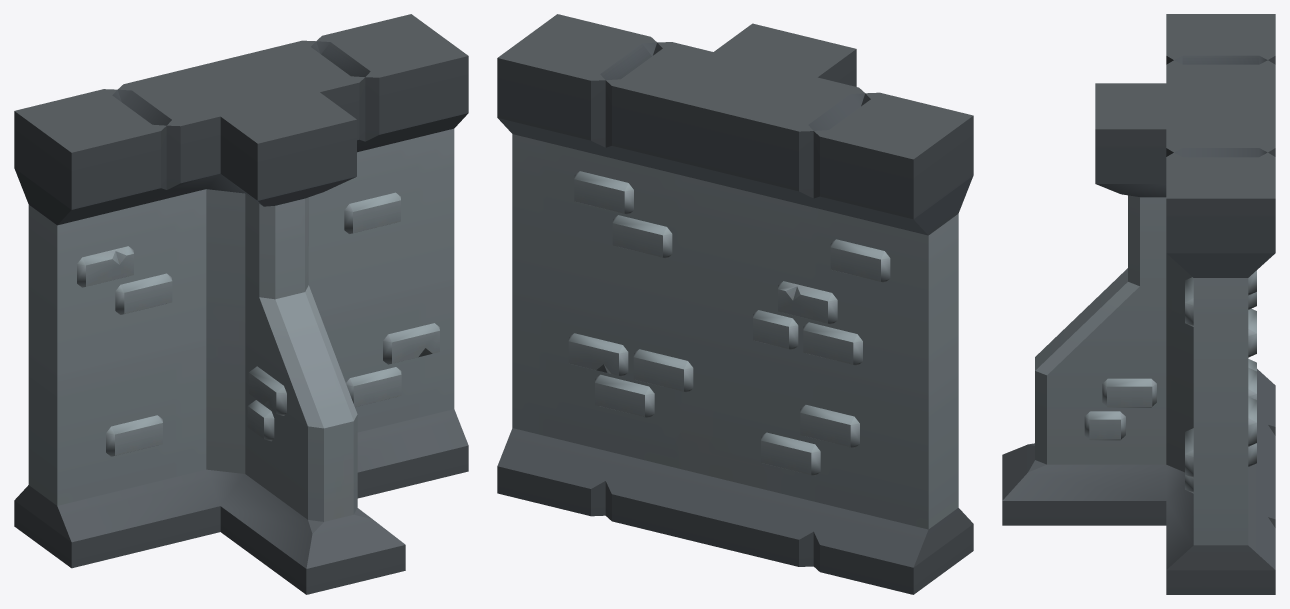
Rendered from kaykit-dungeon-remastered-wall-tsplit-sloped-gltf.glb.
3 views of the same model, side by side, from view 1: azimuth 30°, elevation 25°; view 2: azimuth 150°, elevation 25°; view 3: azimuth 270°, elevation 25° (orthographic). The views are drawn at different scales.
Visible parts, largest first — view 1: wall_Tsplit_sloped; view 2: wall_Tsplit_sloped; view 3: wall_Tsplit_sloped.
Boxes of the visible parts, box(x1,y1,x2,y2) form: wall_Tsplit_sloped: box(14, 14, 468, 594); wall_Tsplit_sloped: box(497, 14, 973, 594); wall_Tsplit_sloped: box(1002, 14, 1275, 594).
Bounding box in the file's own units: 4 × 4 × 2.5.
1 material, 1 textured.
